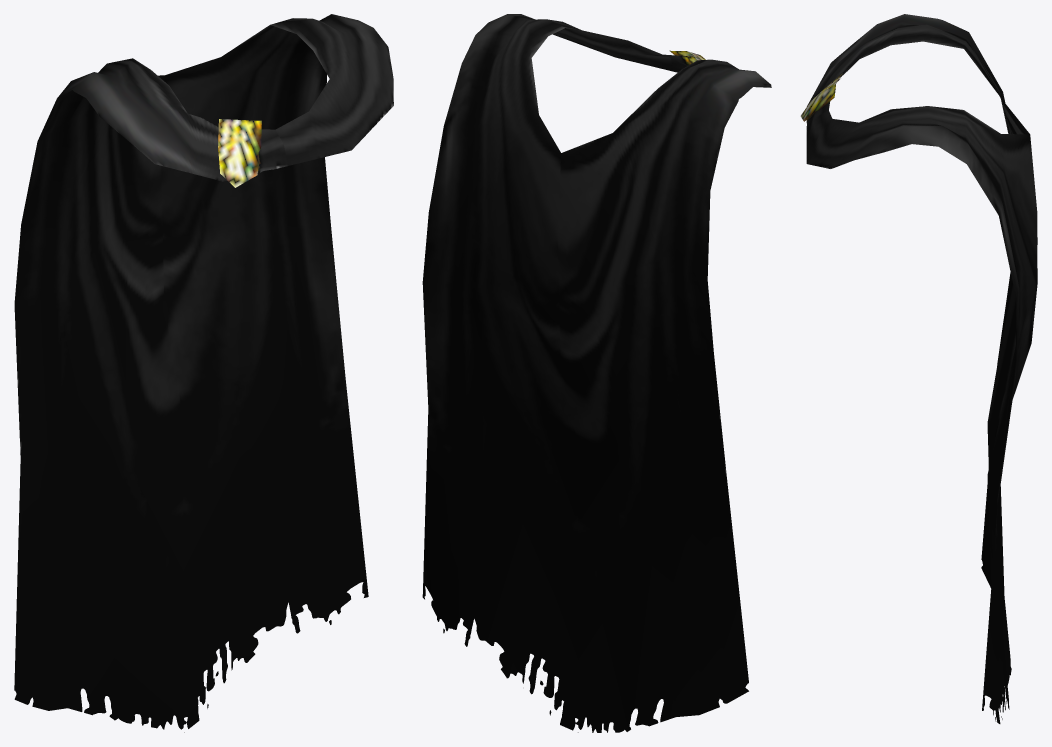
File: cape_hd_medium.dae
3 renders of one model, left to right at view 1: azimuth 30°, elevation 25°; view 2: azimuth 150°, elevation 25°; view 3: azimuth 270°, elevation 25°, orthographic. The views are drawn at different scales.
Parts seen in each view (by area): view 1: Cape_Medium; view 2: Cape_Medium; view 3: Cape_Medium.
Part boxes in pixels (<box>): Cape_Medium: <box>14,14,393,732</box>; Cape_Medium: <box>422,14,771,732</box>; Cape_Medium: <box>800,14,1037,723</box>.
Size of the model in its own units: 1.23 by 2.37 by 0.7754.
